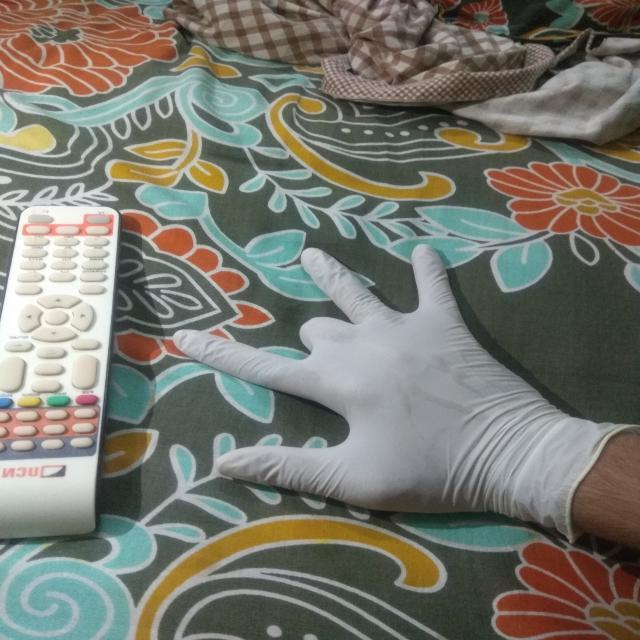gloved_hand: (168, 237, 636, 571)
